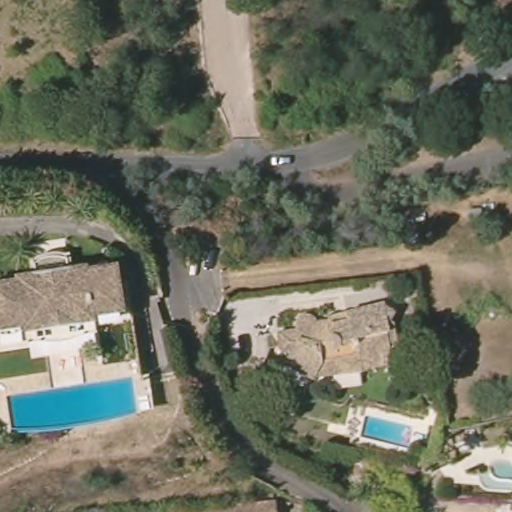pool: (7, 375, 138, 436), (361, 415, 416, 447), (475, 453, 512, 493)
